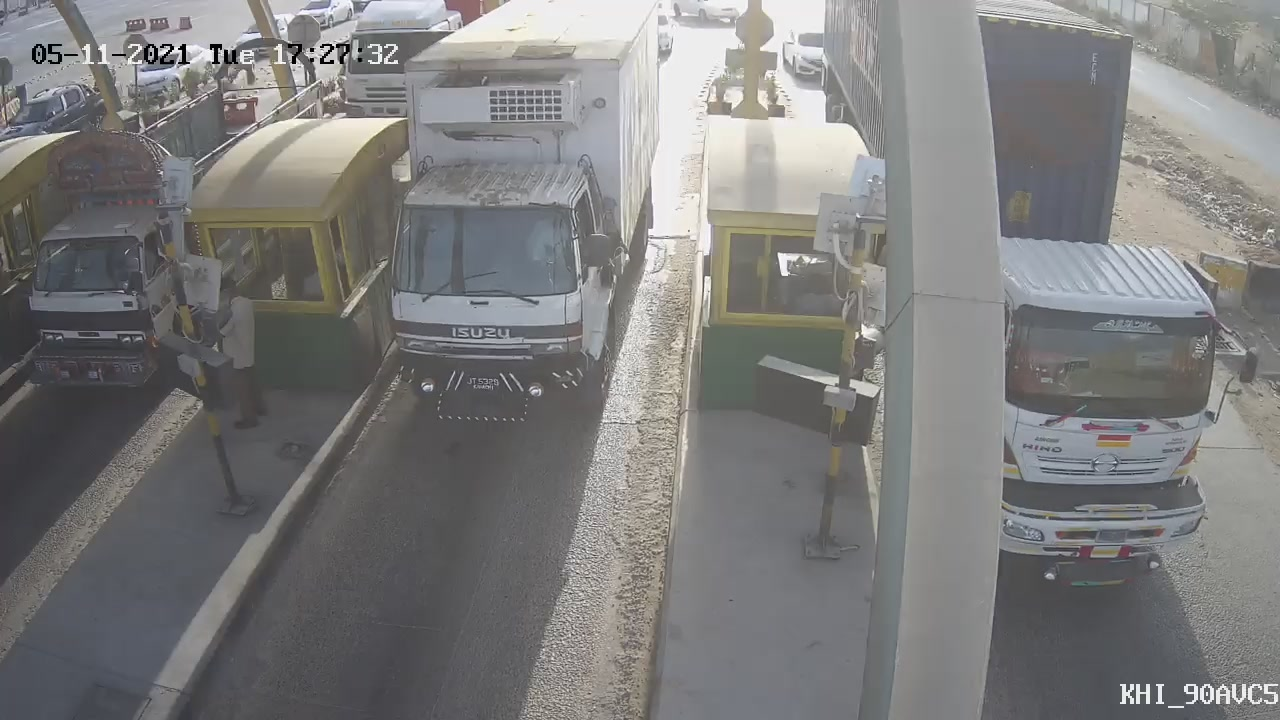F5: (340, 1, 675, 440)
